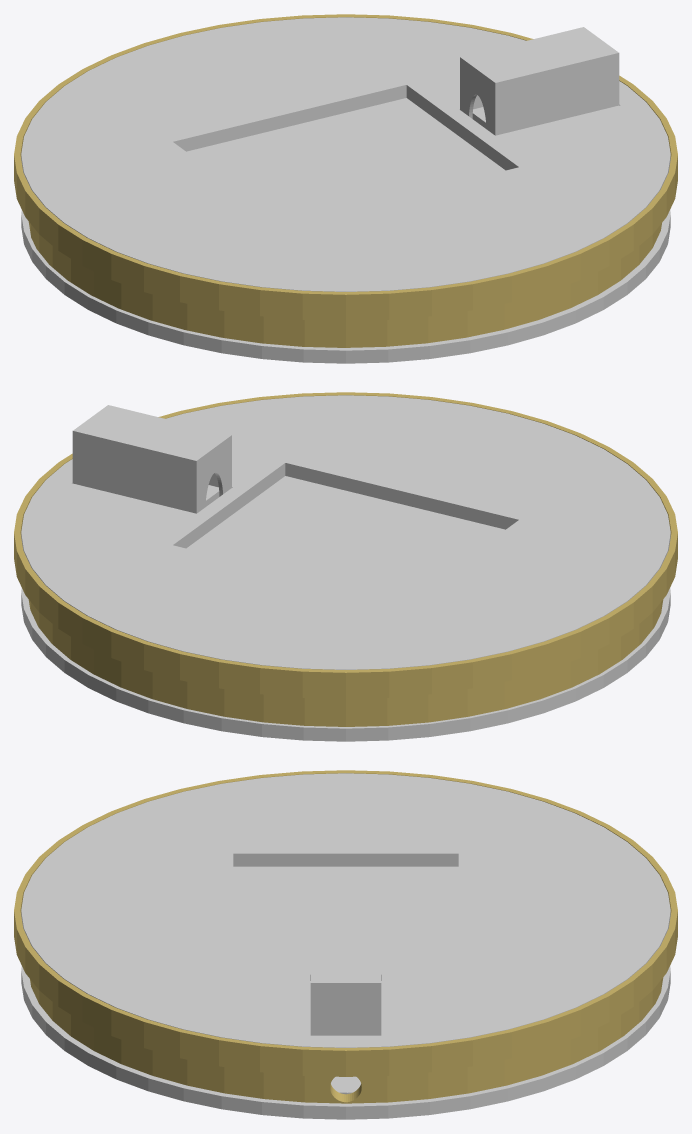
The model's file is cloud_chamber.glb.
The picture shows the model from 3 angles, top to bottom: view 1: azimuth 30°, elevation 25°; view 2: azimuth 150°, elevation 25°; view 3: azimuth 270°, elevation 25°; orthographic projection.
Visible parts, largest first — view 1: Mesh_Mesh_head_geo.001_lambert2SG.001; view 2: Mesh_Mesh_head_geo.001_lambert2SG.001; view 3: Mesh_Mesh_head_geo.001_lambert2SG.001.
Part boxes in pixels (<box>): Mesh_Mesh_head_geo.001_lambert2SG.001: <box>14,14,677,363</box>; Mesh_Mesh_head_geo.001_lambert2SG.001: <box>14,392,677,741</box>; Mesh_Mesh_head_geo.001_lambert2SG.001: <box>14,770,677,1119</box>.
Bounding box in the file's own units: 0.23 × 0.0475 × 0.23.
